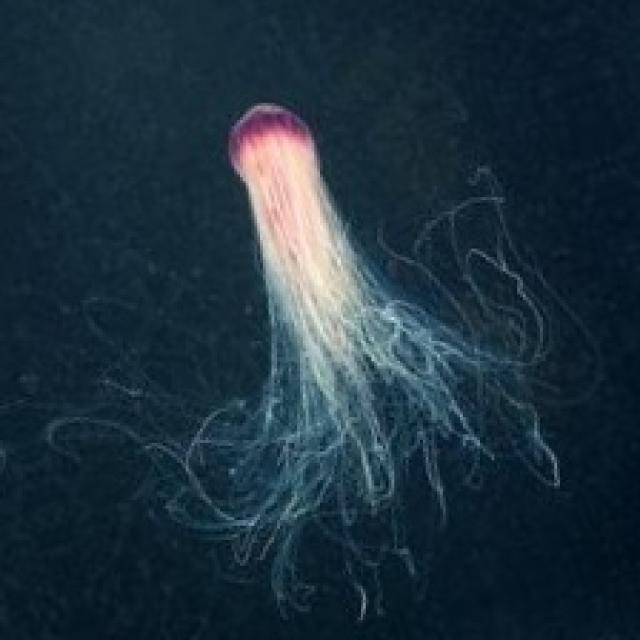Box-jellyfish: (43, 97, 603, 626)
